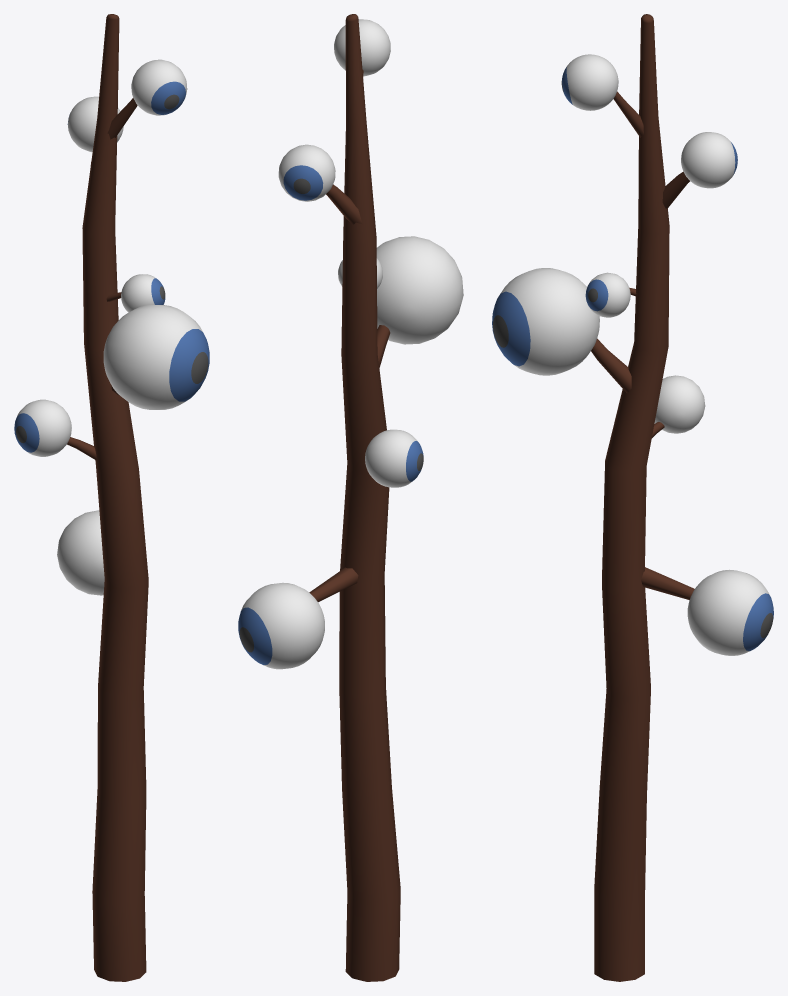
File: SW_TreeB4.fbx
The picture shows the model from 3 angles, left to right: view 1: azimuth 30°, elevation 25°; view 2: azimuth 150°, elevation 25°; view 3: azimuth 270°, elevation 25°; orthographic projection. The views are drawn at different scales.
Visible parts, largest first — view 1: trunk, eye6; view 2: trunk, eye6; view 3: trunk, eye6.
Boxes of the visible parts, x1,y1,x2,y2 form: trunk: [67, 14, 148, 981]; eye6: [14, 59, 209, 595]; trunk: [309, 14, 400, 981]; eye6: [238, 19, 463, 669]; trunk: [591, 14, 694, 981]; eye6: [492, 54, 773, 655].
Bounding box in the file's own units: 347 × 2153 × 574.
